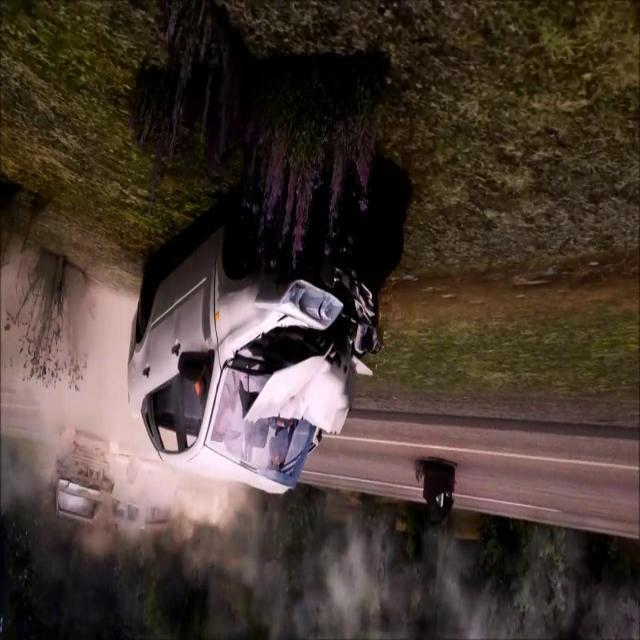severe: (122, 201, 386, 494), (46, 424, 178, 542)
